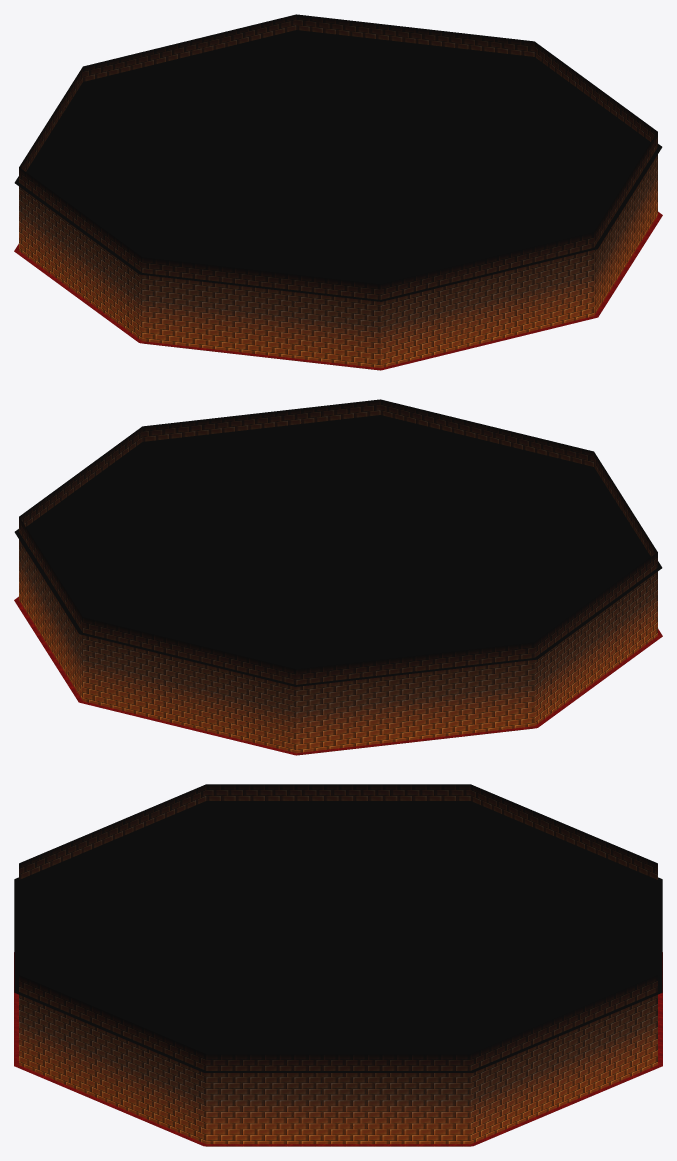
Rendered from MR_stage3.glb.
The picture shows the model from 3 angles, top to bottom: view 1: azimuth 30°, elevation 25°; view 2: azimuth 150°, elevation 25°; view 3: azimuth 270°, elevation 25°; orthographic projection. The views are drawn at different scales.
Parts seen in each view (by area): view 1: MR_stage3; view 2: MR_stage3; view 3: MR_stage3.
Boxes of the visible parts, <box> form: MR_stage3: <box>14,14,662,370</box>; MR_stage3: <box>14,399,662,755</box>; MR_stage3: <box>14,784,662,1146</box>.
Size of the model in its own units: 584 by 121 by 584.
Materials: 12 (12 with a texture image).
